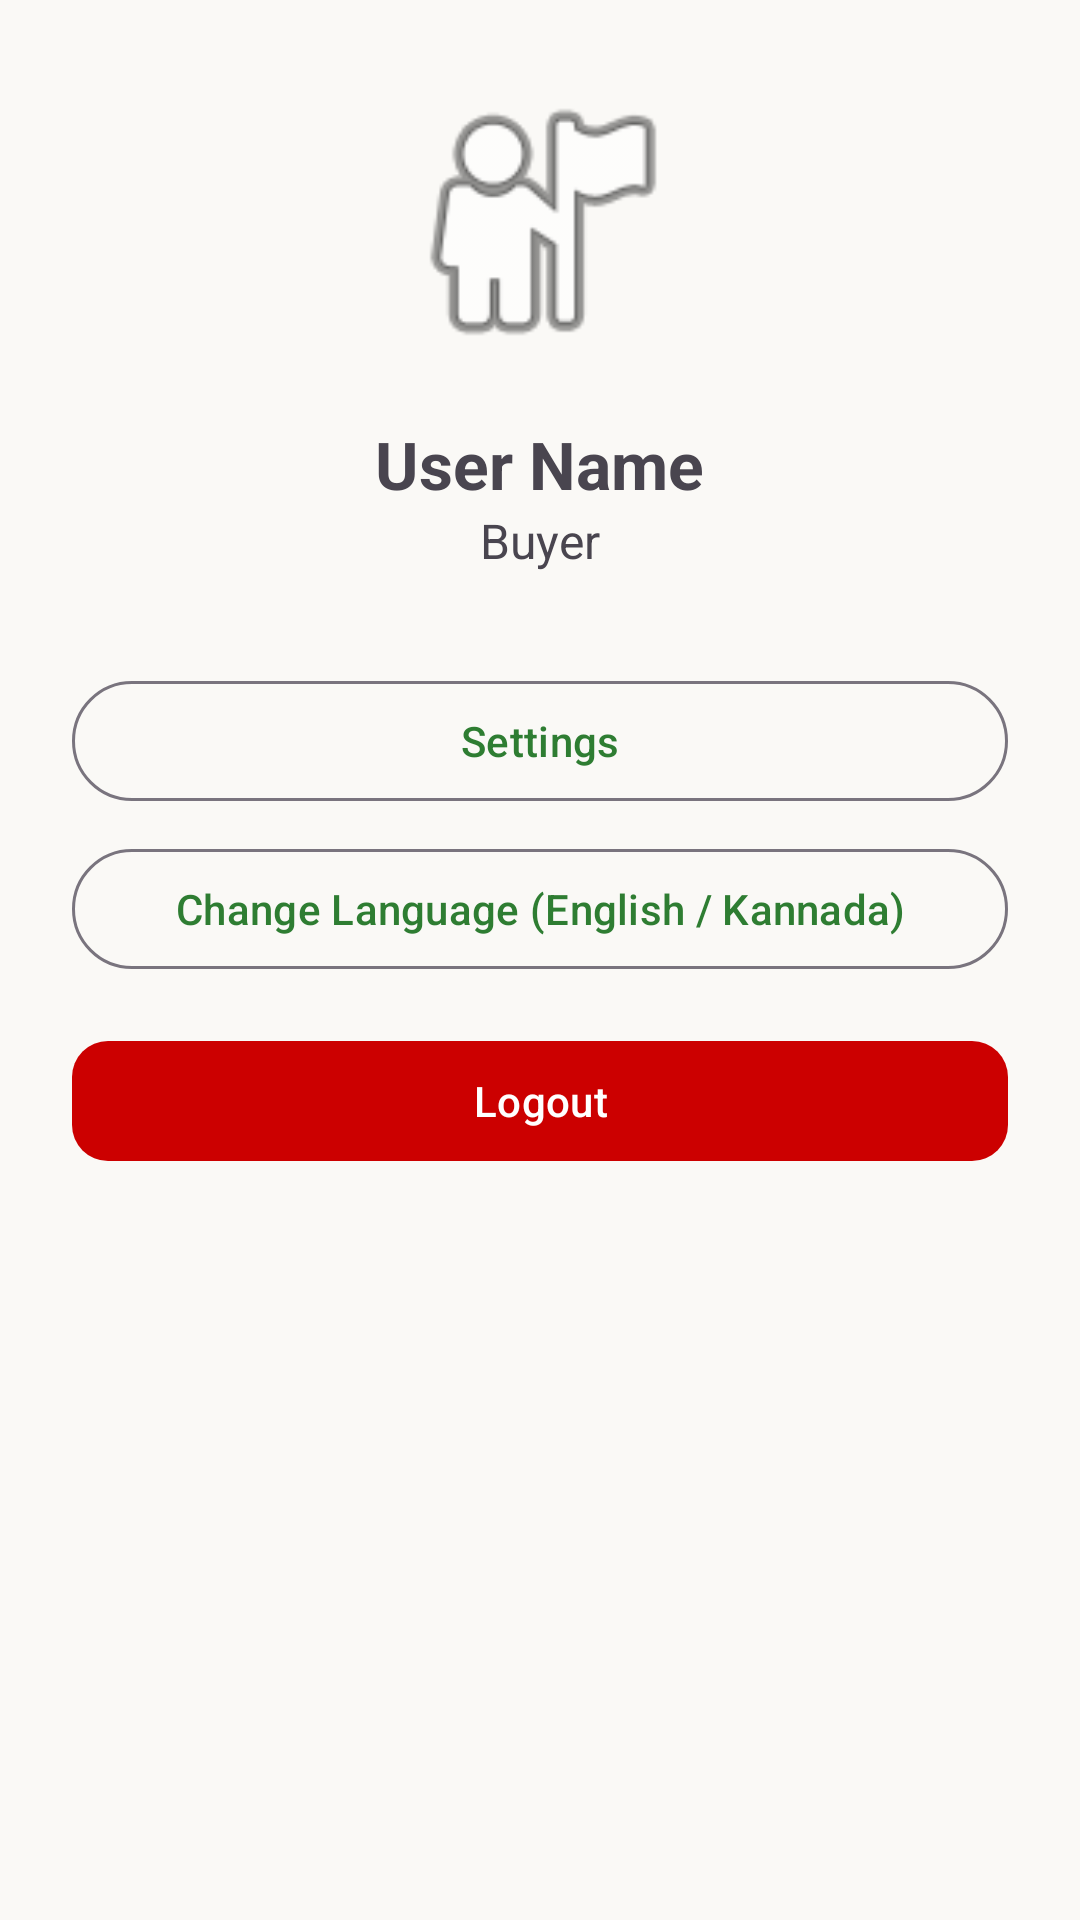

Screen size 1080x1920. Icon name, then its box in pixels as (x1, y1, x2, y2):
myplaces: (430, 110, 656, 334)
